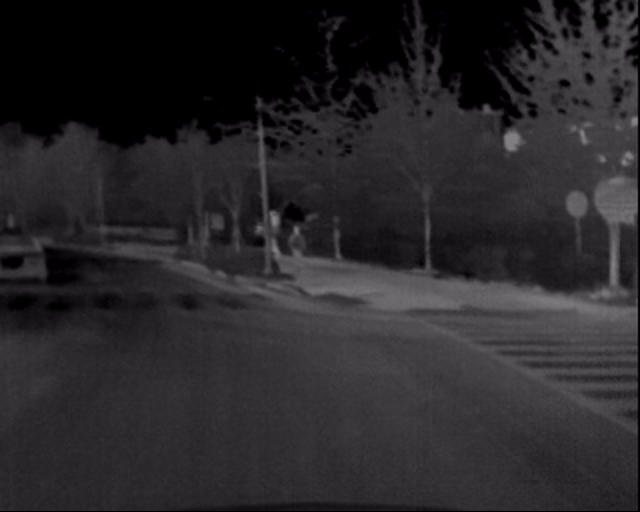person: (289, 219, 311, 277)
